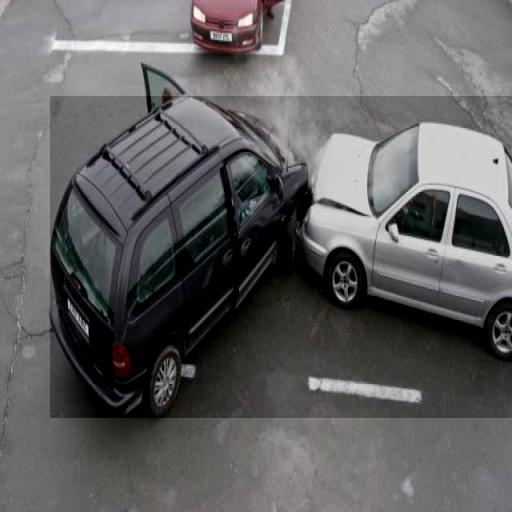小汽车: (189, 0, 278, 56)
小汽车撞小汽车: (50, 96, 512, 418)
